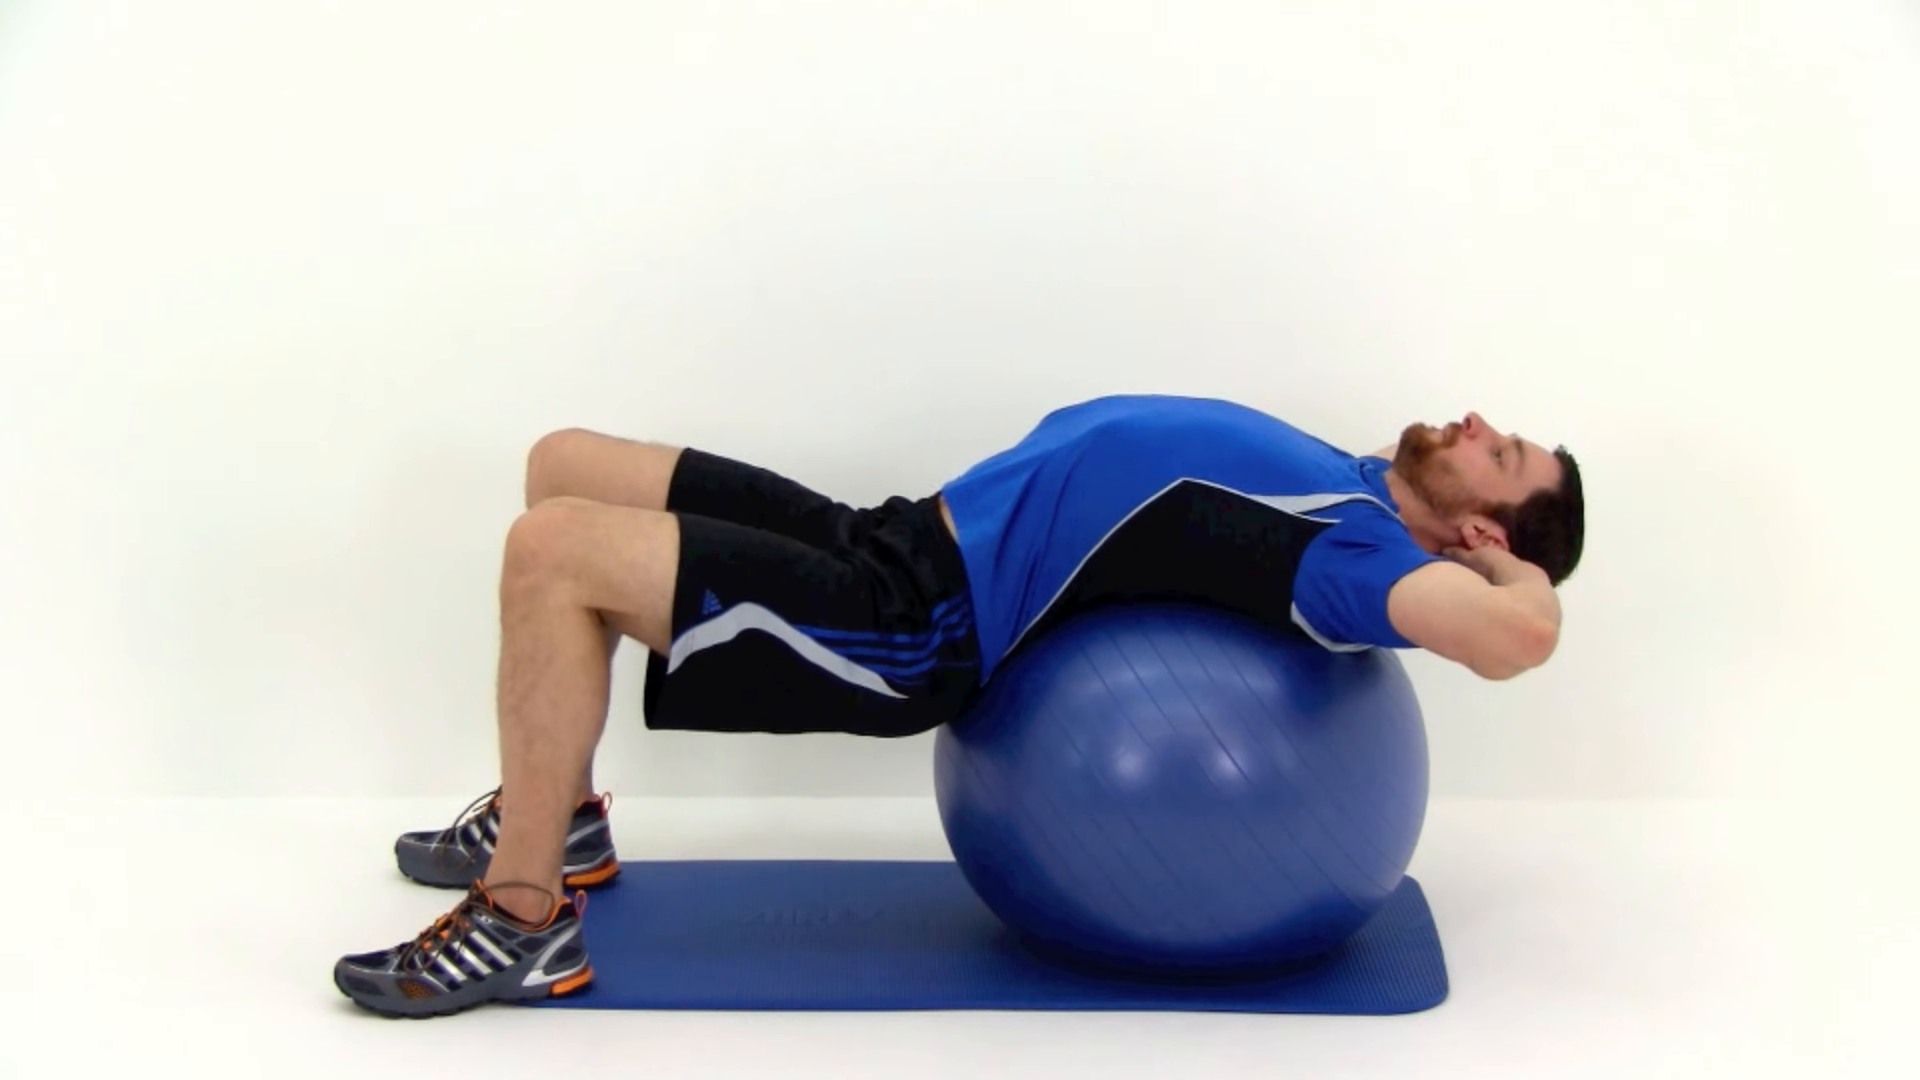yogaball: (920, 549, 1447, 994)
